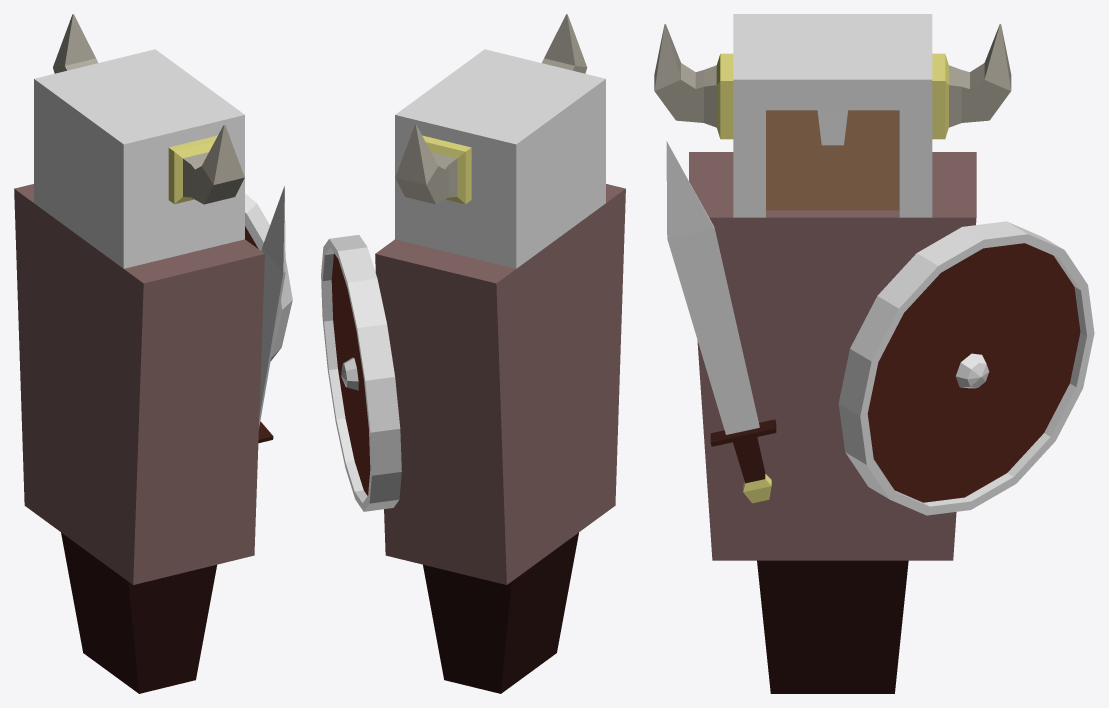
Rendered from warrior_new_variant1.fbx.
3 renders of one model, left to right at view 1: azimuth 30°, elevation 25°; view 2: azimuth 150°, elevation 25°; view 3: azimuth 270°, elevation 25°, orthographic. The views are drawn at different scales.
Parts seen in each view (by area): view 1: Warrior; view 2: Warrior; view 3: Warrior.
Part boxes in pixels (x1,y1,x2,y2): Warrior: (14,14,292,693); Warrior: (321,14,625,693); Warrior: (654,14,1094,693).
Size of the model in its own units: 0.5989 by 1.5 by 0.9095.
